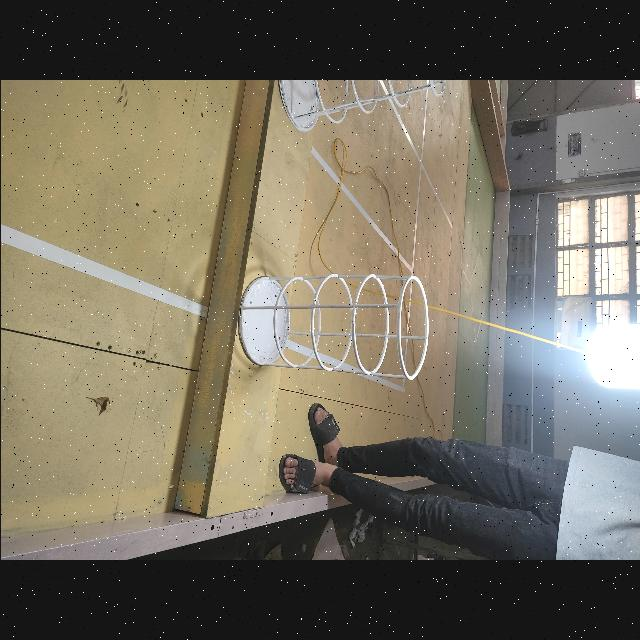S: (238, 272, 430, 381), (276, 80, 444, 134)
